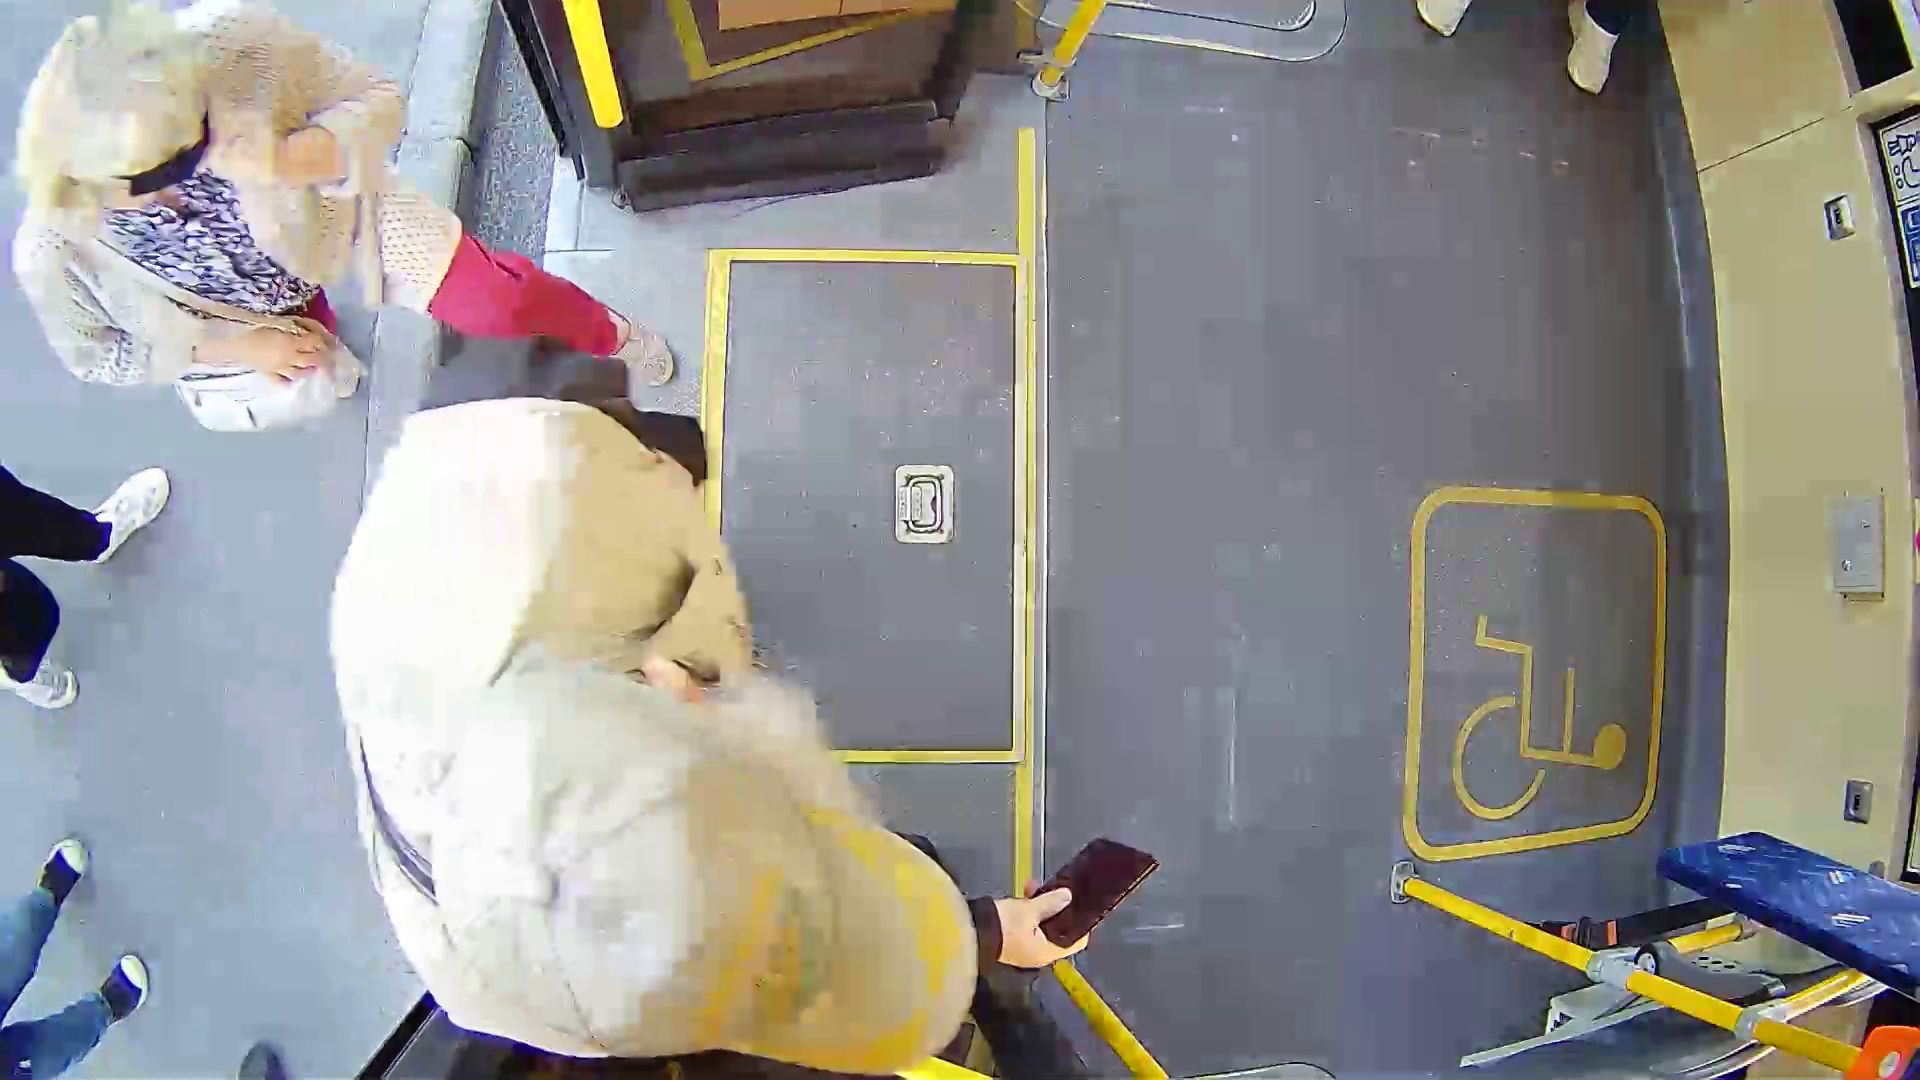person: (316, 383, 1104, 1069), (1, 15, 855, 492)
